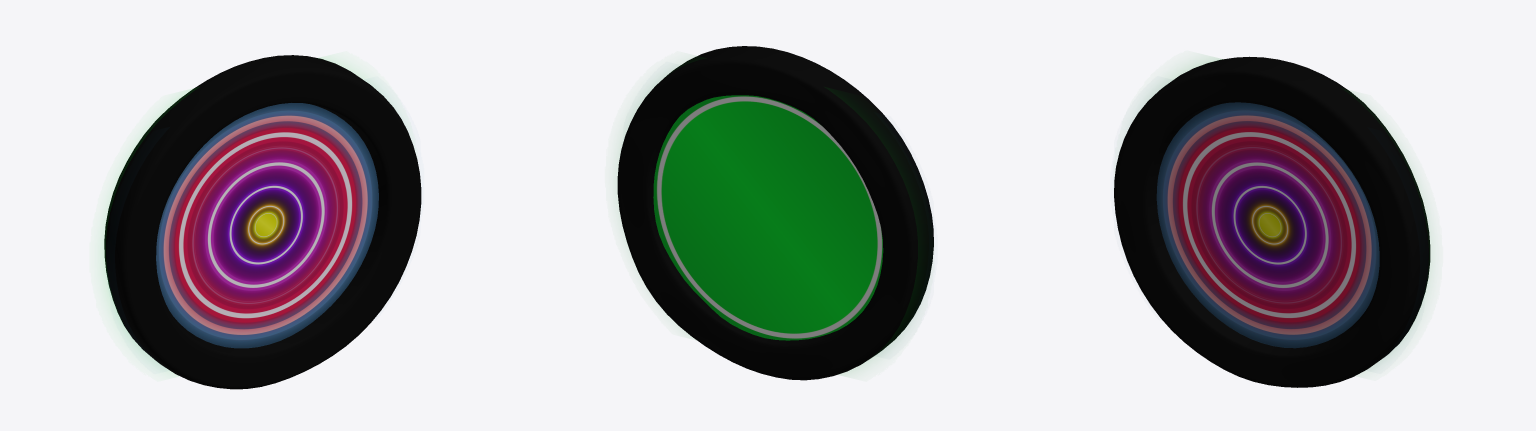
File: GreenIt.glb
3 views of the same model, side by side, from view 1: azimuth 30°, elevation 25°; view 2: azimuth 150°, elevation 25°; view 3: azimuth 330°, elevation 25° (orthographic).
Visible parts, largest first — view 1: node_id42_4, node_id8_5; view 2: node_id50_3, node_id8_5; view 3: node_id42_4, node_id8_5.
Boxes of the visible parts, box(x1,y1,x2,y2) form: node_id42_4: box(156, 103, 378, 348); node_id8_5: box(104, 55, 421, 389); node_id50_3: box(653, 91, 916, 340); node_id8_5: box(617, 46, 933, 380); node_id42_4: box(1156, 102, 1379, 348); node_id8_5: box(1114, 56, 1430, 387).
Bounding box in the file's own units: 0.8232 × 0.5092 × 0.0668.
3 materials, 3 textured.
